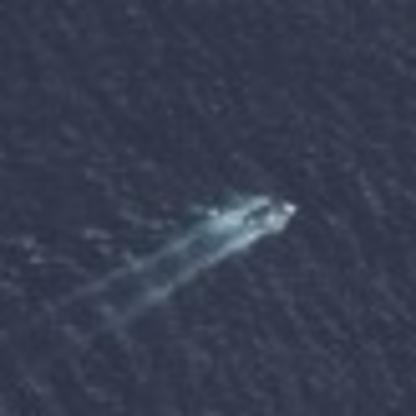ship: (234, 192, 306, 244)
